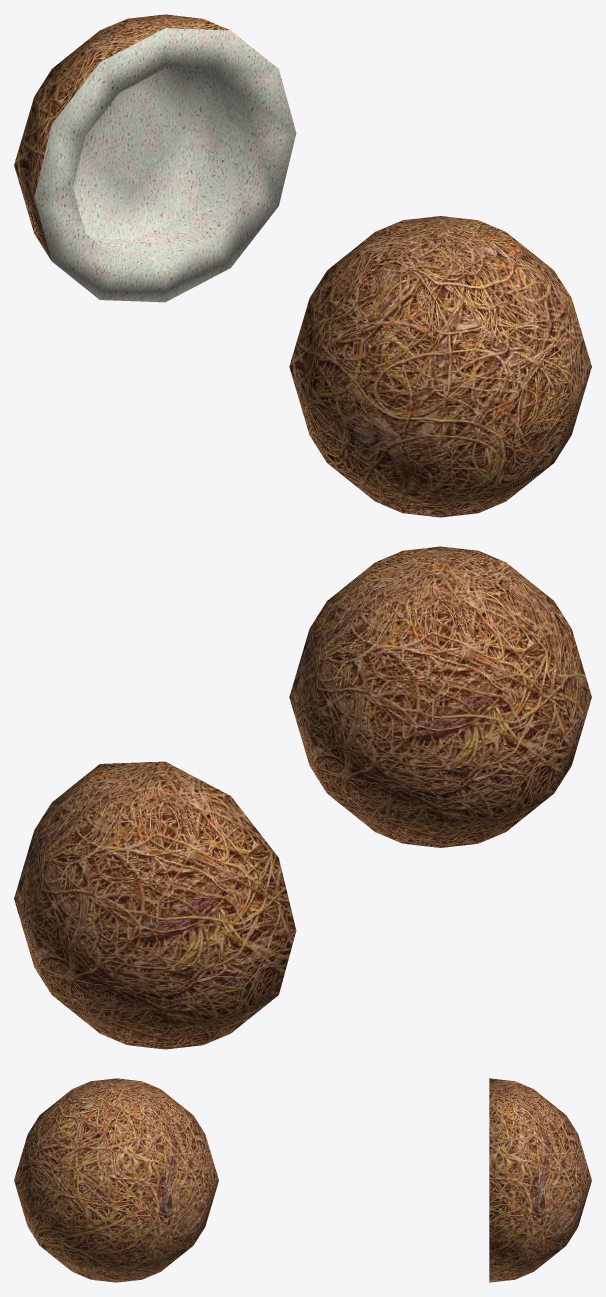
Rendered from coconut_1.fbx.
3 views of the same model, one above another, from view 1: azimuth 30°, elevation 25°; view 2: azimuth 150°, elevation 25°; view 3: azimuth 270°, elevation 25° (orthographic). The views are drawn at different scales.
Visible parts, largest first — view 1: coconut_1, coconut_halved_1; view 2: coconut_1, coconut_halved_1; view 3: coconut_1, coconut_halved_1.
Part boxes in pixels (bbox=[...]): coconut_1: bbox=[289, 216, 591, 517]; coconut_halved_1: bbox=[14, 14, 296, 302]; coconut_1: bbox=[289, 546, 591, 847]; coconut_halved_1: bbox=[14, 761, 296, 1049]; coconut_1: bbox=[14, 1078, 218, 1282]; coconut_halved_1: bbox=[489, 1078, 591, 1282].
Size of the model in its own units: 20 by 20 by 56.38.
